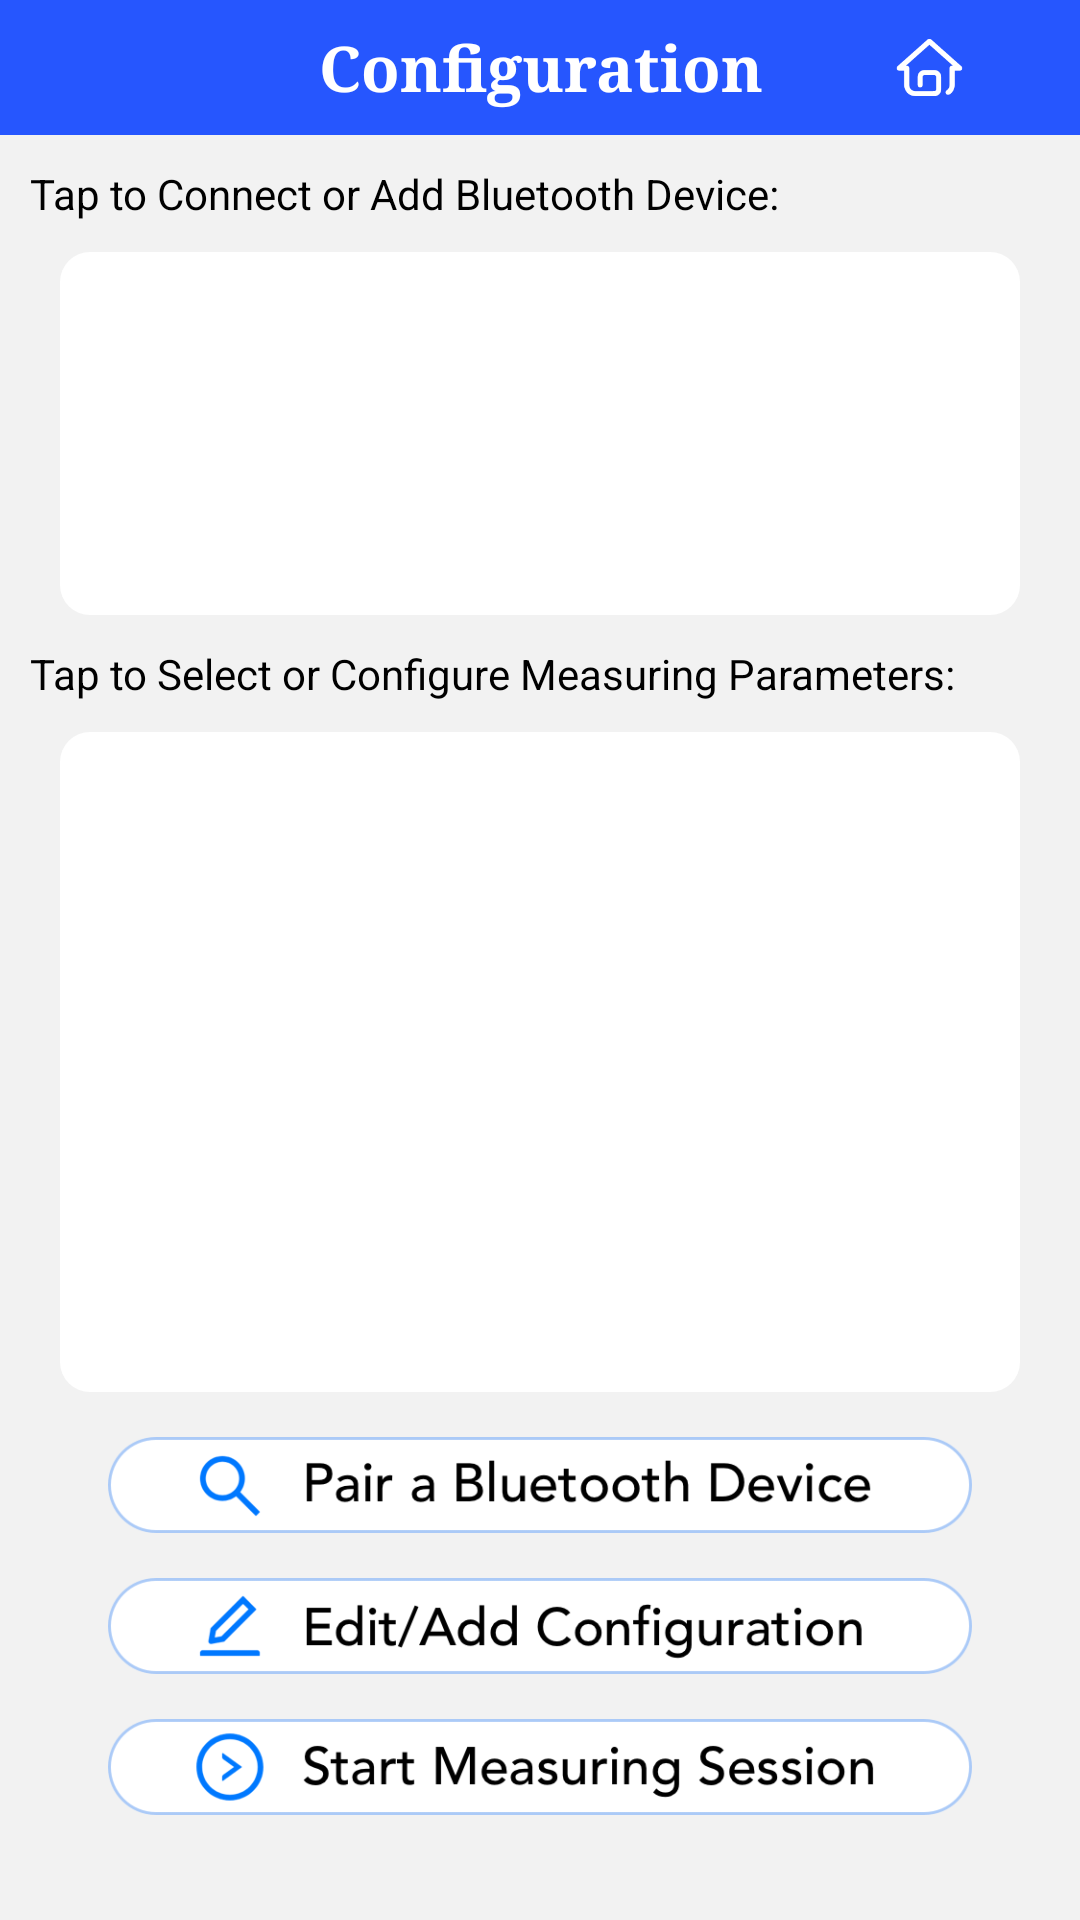

Point at icon controls on the screen. Image size 1080 x 1920, points as (x=x, y=y).
result home: (x=929, y=67)
